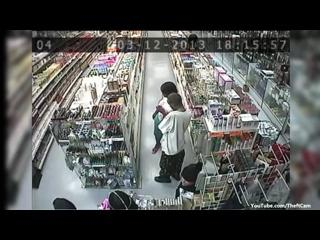Normal: (154, 93, 192, 183), (152, 82, 178, 154)
